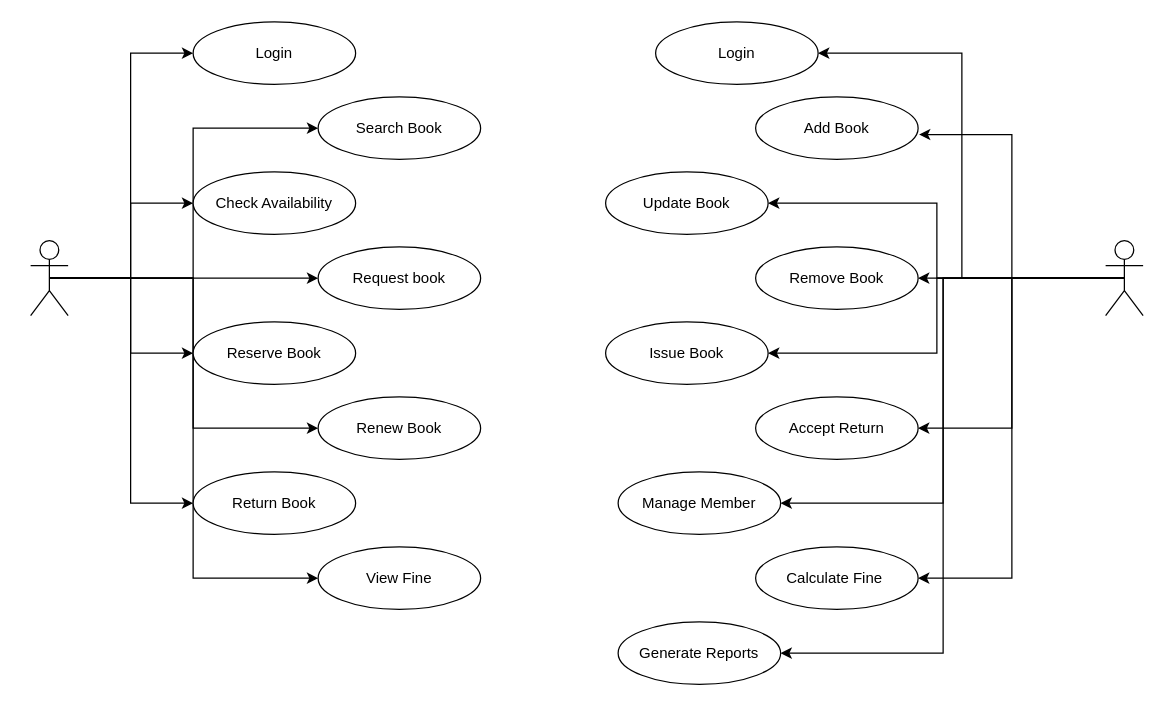
This 1175x706 diagram has some shape labels left out. The shapes that lost their labels are listed below. From the top down, each one's box as (x1, y1, x2, y2) in pixels, then its label:
(29, 239, 68, 316): Member
(1104, 239, 1143, 316): Librarian
